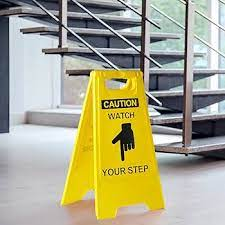wet caution sign: (65, 67, 167, 219)
